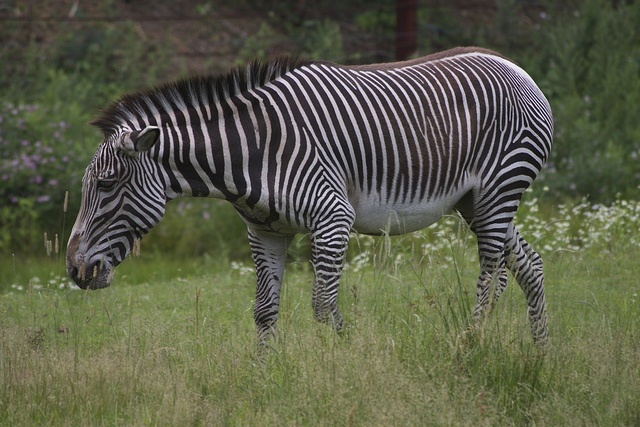zebra: (65, 42, 551, 358)
